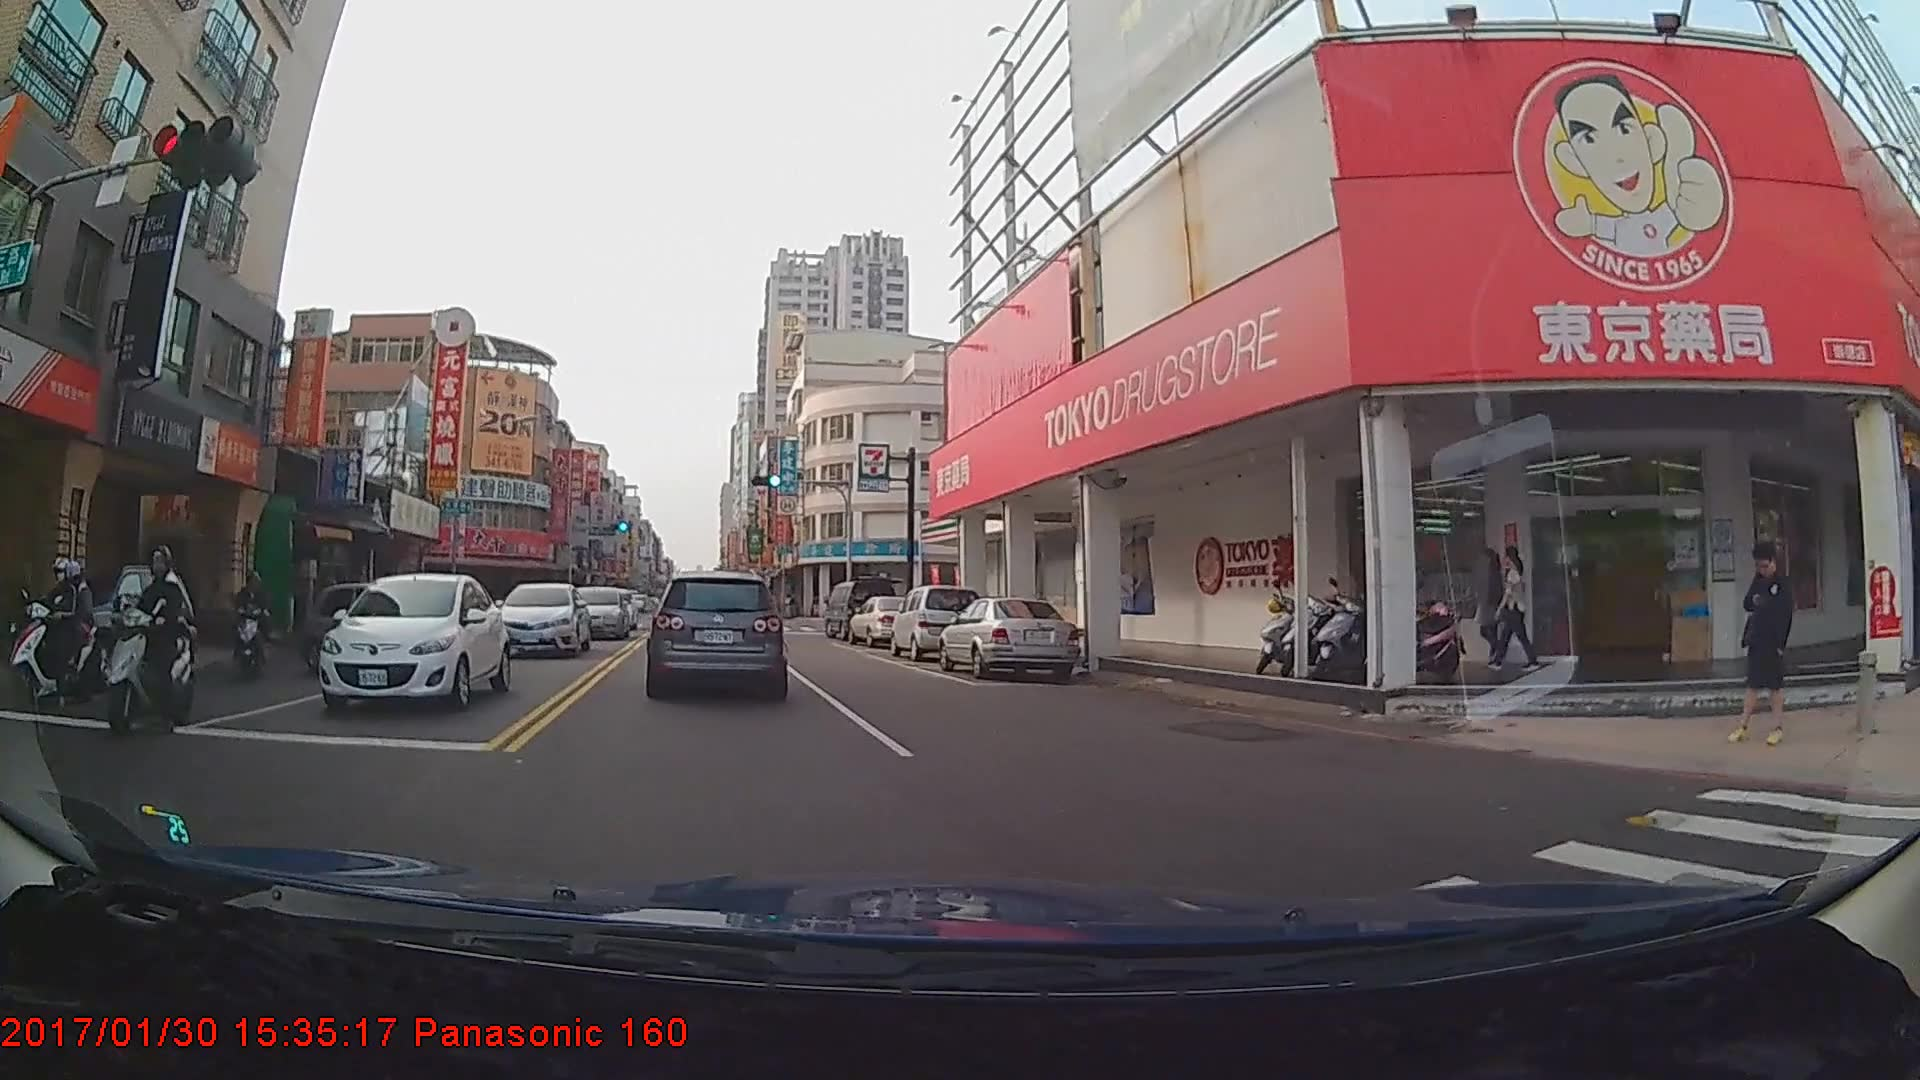pedestrian: (1726, 542, 1798, 746), (1484, 542, 1535, 678), (1478, 547, 1514, 665)
rider: (94, 547, 207, 739), (7, 559, 121, 709), (231, 563, 272, 683)
vehicle: (317, 572, 511, 714), (4, 562, 197, 695), (650, 572, 783, 698), (936, 594, 1080, 683), (493, 581, 591, 657), (887, 585, 982, 661), (828, 582, 892, 639), (849, 597, 923, 643), (567, 587, 628, 641)
